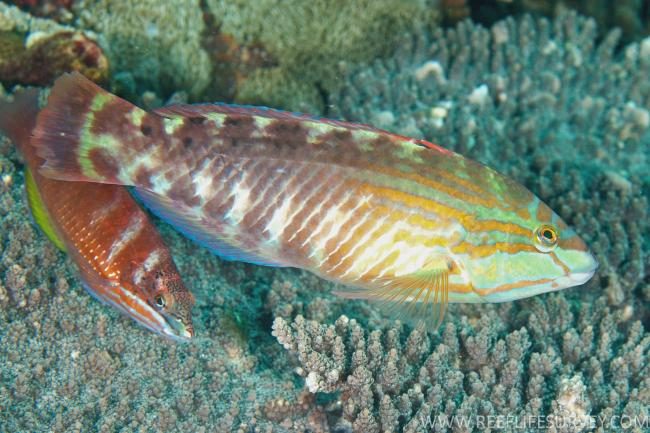fish: (30, 70, 598, 335)
